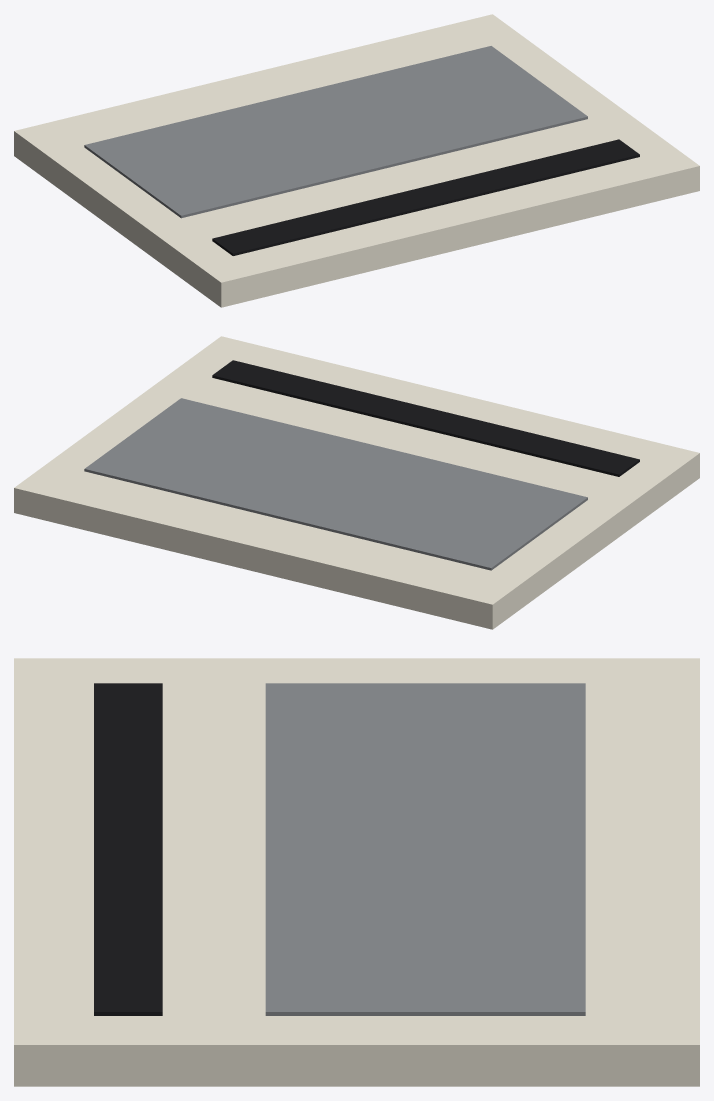
File: GD_Newspaper_01.glb
3 renders of one model, top to bottom at view 1: azimuth 30°, elevation 25°; view 2: azimuth 150°, elevation 25°; view 3: azimuth 270°, elevation 25°, orthographic. The views are drawn at different scales.
Visible parts, largest first — view 1: GD_Newspaper_01; view 2: GD_Newspaper_01; view 3: GD_Newspaper_01.
Part boxes in pixels (x1,y1,x2,y2): GD_Newspaper_01: (14,14,699,307); GD_Newspaper_01: (14,336,699,629); GD_Newspaper_01: (14,658,699,1086).
Size of the model in its own units: 0.4 by 0.022 by 0.3.
1 material, 1 textured.
